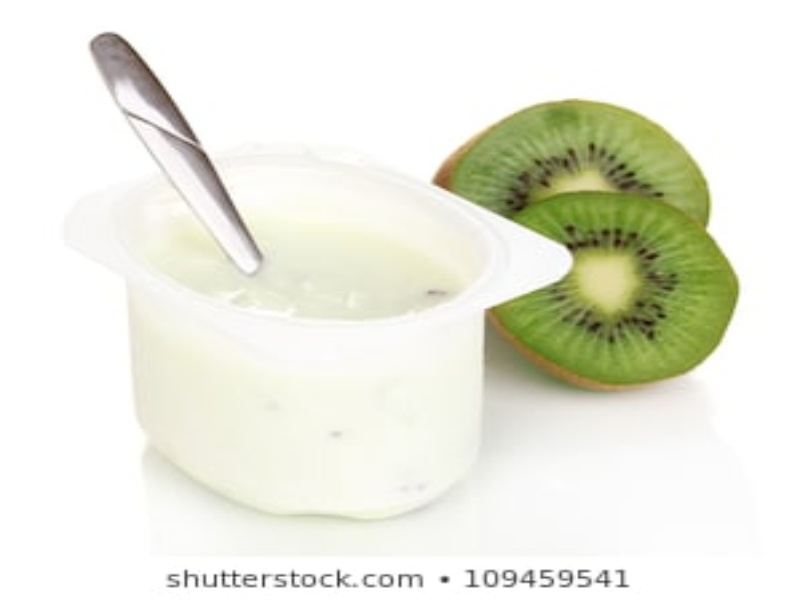yogurt-cup: (55, 145, 574, 523)
